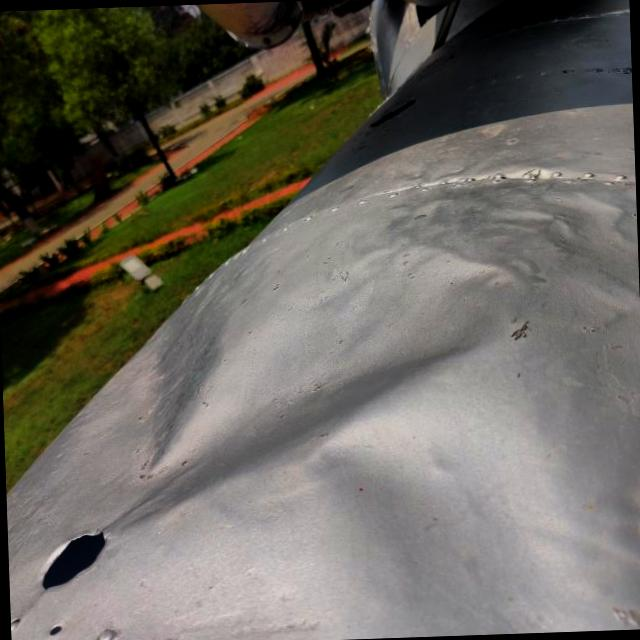dent: (92, 207, 510, 536), (521, 169, 638, 268)
